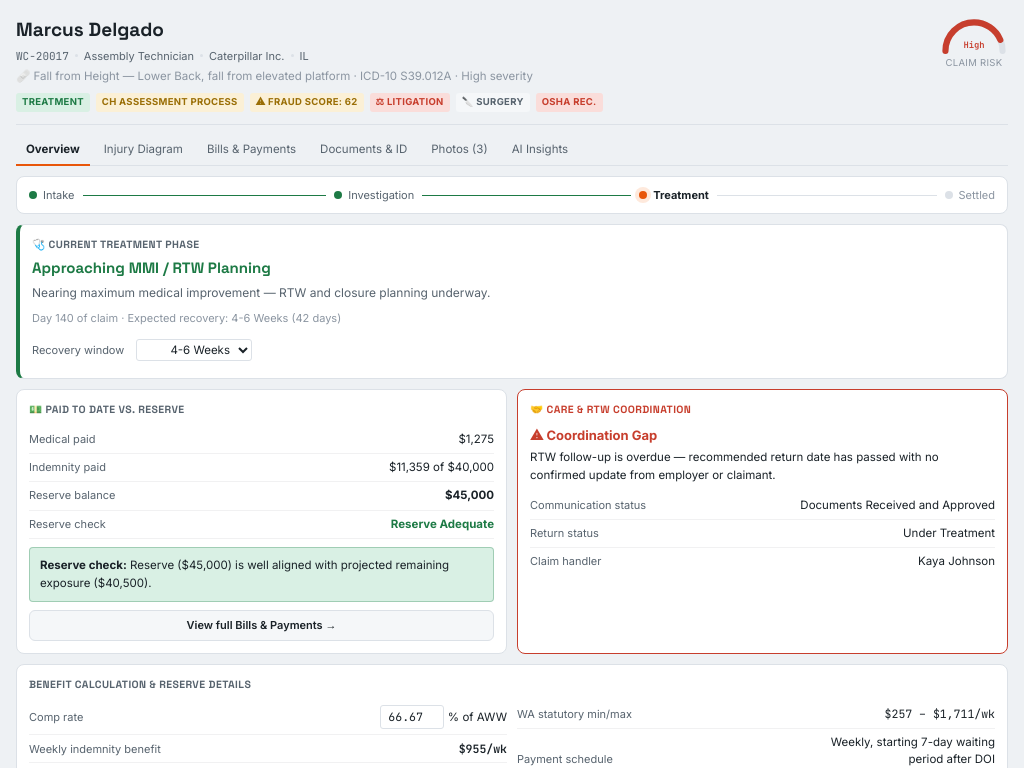
Test: the prognosis, treatment plan and restrictions are the payload's
Check: the header with test id "case-header" is shown, box top-left (16, 16), bottom-right (1008, 124)
Click the tab with test id "tab-injury": point(143, 150) top-left (94, 134), bottom-right (193, 166)
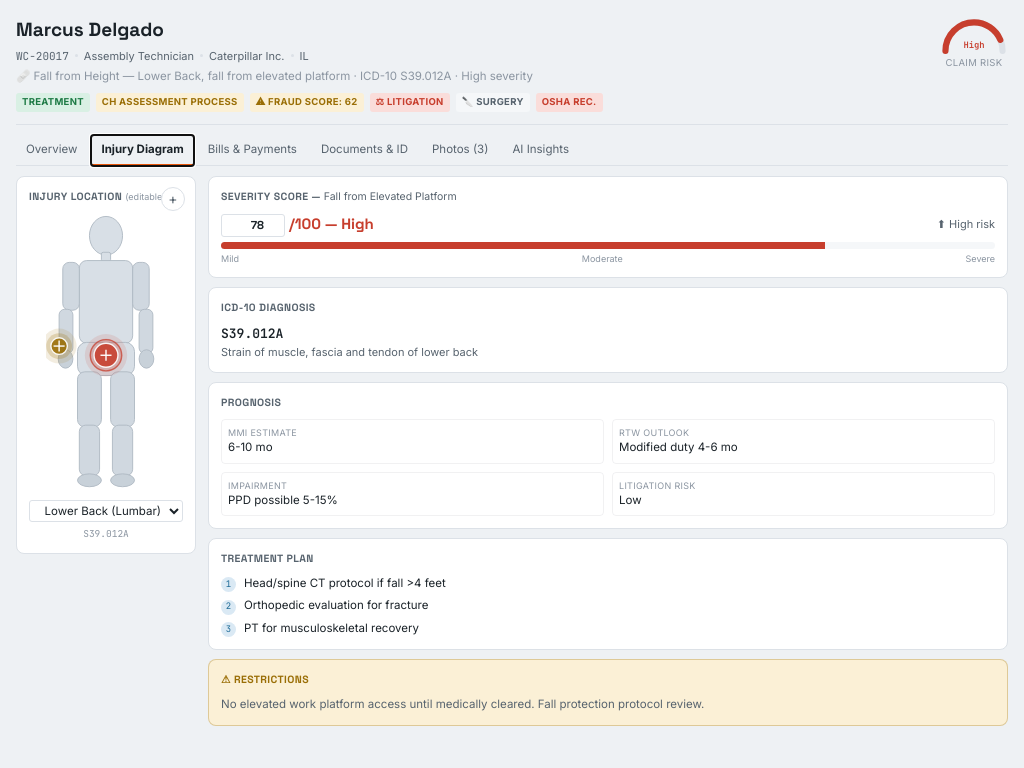
Check: the text with test id "injury-prognosis-mmi" reads "6-10 mo", box top-left (228, 440), bottom-right (273, 454)
Check: the number of list items with test id "injury-treatment-step" is 3, box top-left (221, 576), bottom-right (446, 592); top-left (221, 598), bottom-right (428, 615); top-left (221, 620), bottom-right (419, 637)
Check: the list item with test id "injury-treatment-step" shows "1", box top-left (226, 578), bottom-right (231, 590)
